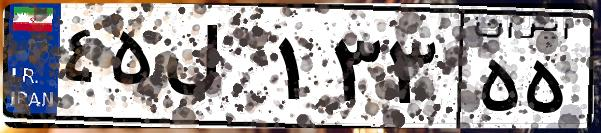1: (270, 28, 330, 110)
3: (385, 28, 445, 110), (330, 28, 385, 110)
4: (57, 26, 110, 100)
5: (475, 38, 525, 113), (525, 38, 570, 115), (110, 28, 158, 98)
ل: (158, 20, 270, 120)
